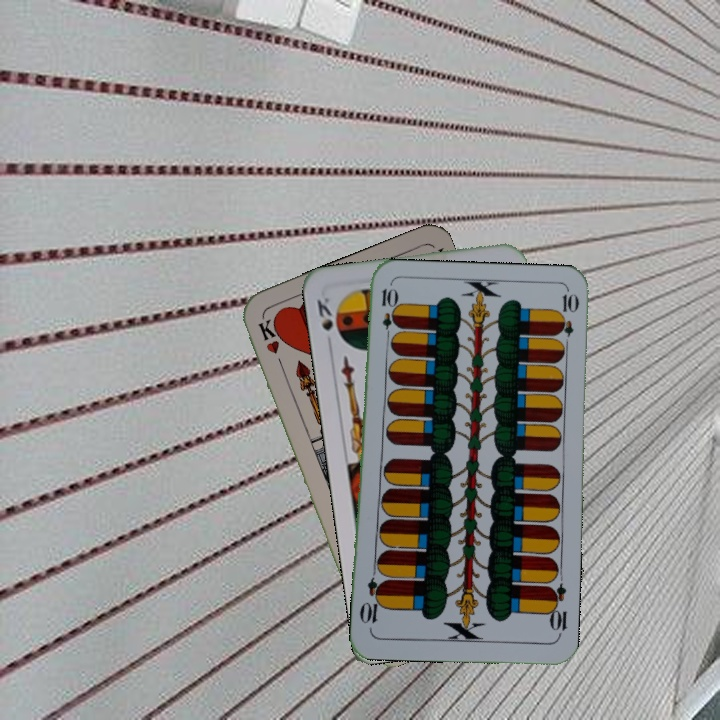E10: (544, 580, 570, 639), (377, 284, 396, 343)
HK: (254, 314, 287, 372)
SK: (313, 292, 336, 334)
